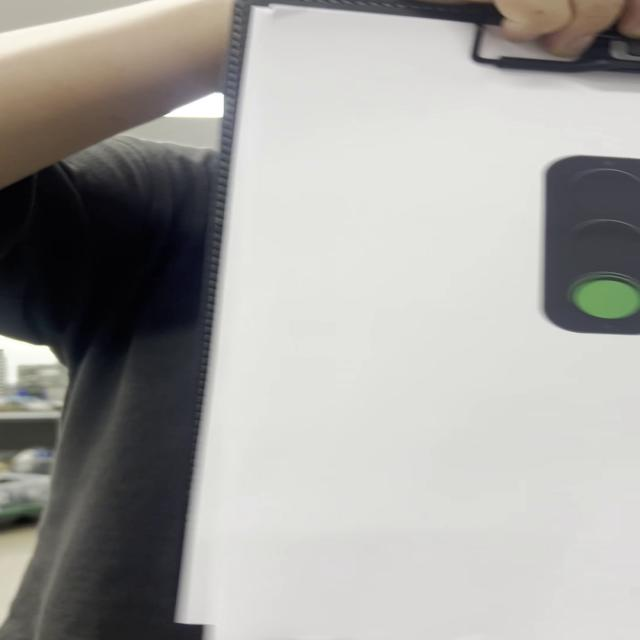green: (546, 155, 640, 333)
